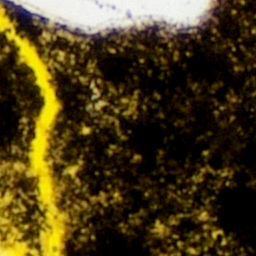cement_matrix: (0, 0, 255, 255), (0, 32, 42, 166), (0, 171, 41, 244), (67, 166, 76, 176), (17, 205, 19, 207)
cracks: (0, 3, 68, 255)
gravel_crushed_stones: (13, 0, 211, 30), (68, 167, 75, 175)
